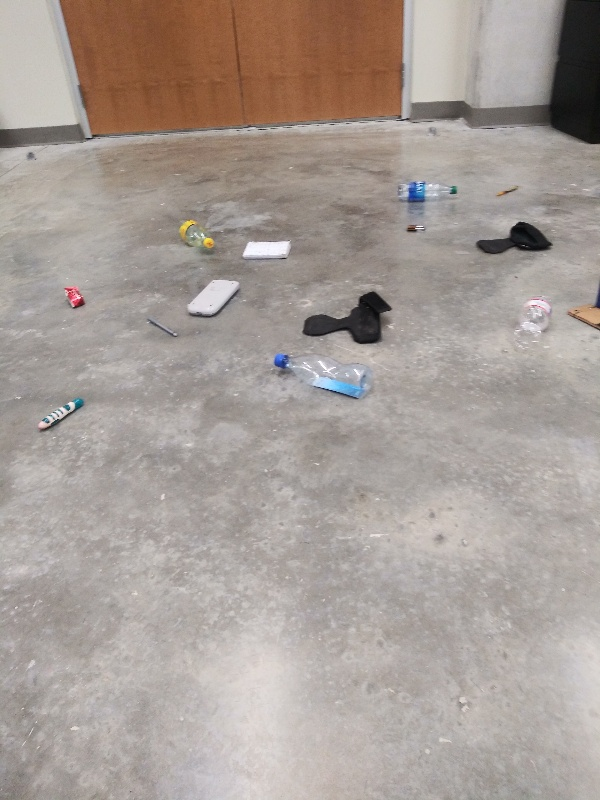bottle: (270, 349, 376, 405), (508, 291, 561, 354), (393, 180, 461, 205), (174, 215, 217, 253)
